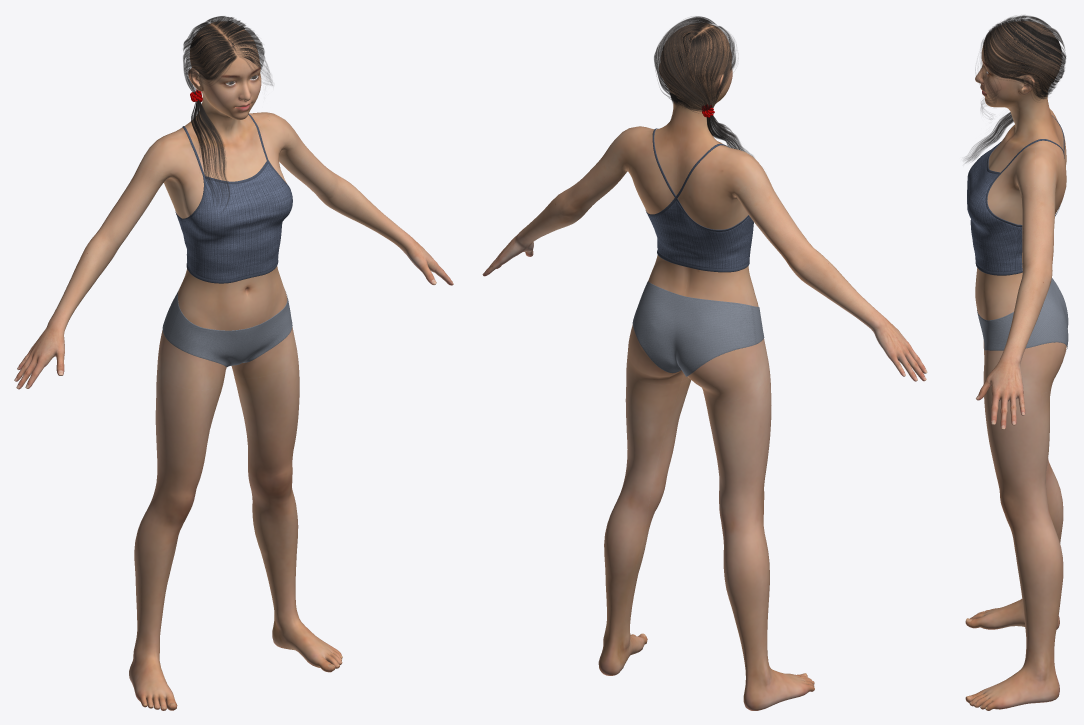
File: Female3d66.glb
3 renders of one model, left to right at view 1: azimuth 30°, elevation 25°; view 2: azimuth 150°, elevation 25°; view 3: azimuth 270°, elevation 25°, orthographic. The views are drawn at different scales.
Visible parts, largest first — view 1: Obj3d66-853441-4-467, Obj3d66-853441-5-701, Obj3d66-853441-2-549, Obj3d66-853441-1-660; view 2: Obj3d66-853441-4-467, Obj3d66-853441-1-660, Obj3d66-853441-2-549, Obj3d66-853441-5-701; view 3: Obj3d66-853441-4-467, Obj3d66-853441-2-549, Obj3d66-853441-5-701, Obj3d66-853441-1-660.
Part boxes in pixels (x1,y1,x2,y2): Obj3d66-853441-4-467: (14, 21, 453, 710); Obj3d66-853441-5-701: (175, 114, 292, 283); Obj3d66-853441-2-549: (183, 16, 272, 210); Obj3d66-853441-1-660: (162, 290, 292, 366); Obj3d66-853441-4-467: (482, 23, 927, 710); Obj3d66-853441-1-660: (632, 281, 764, 376); Obj3d66-853441-2-549: (654, 16, 753, 156); Obj3d66-853441-5-701: (645, 128, 753, 272); Obj3d66-853441-4-467: (965, 21, 1066, 710); Obj3d66-853441-2-549: (965, 15, 1066, 163); Obj3d66-853441-5-701: (967, 115, 1064, 275); Obj3d66-853441-1-660: (977, 278, 1068, 350).
Bounding box in the file's own units: 1.26 × 1.81 × 0.2865.
31 materials, 27 textured.
